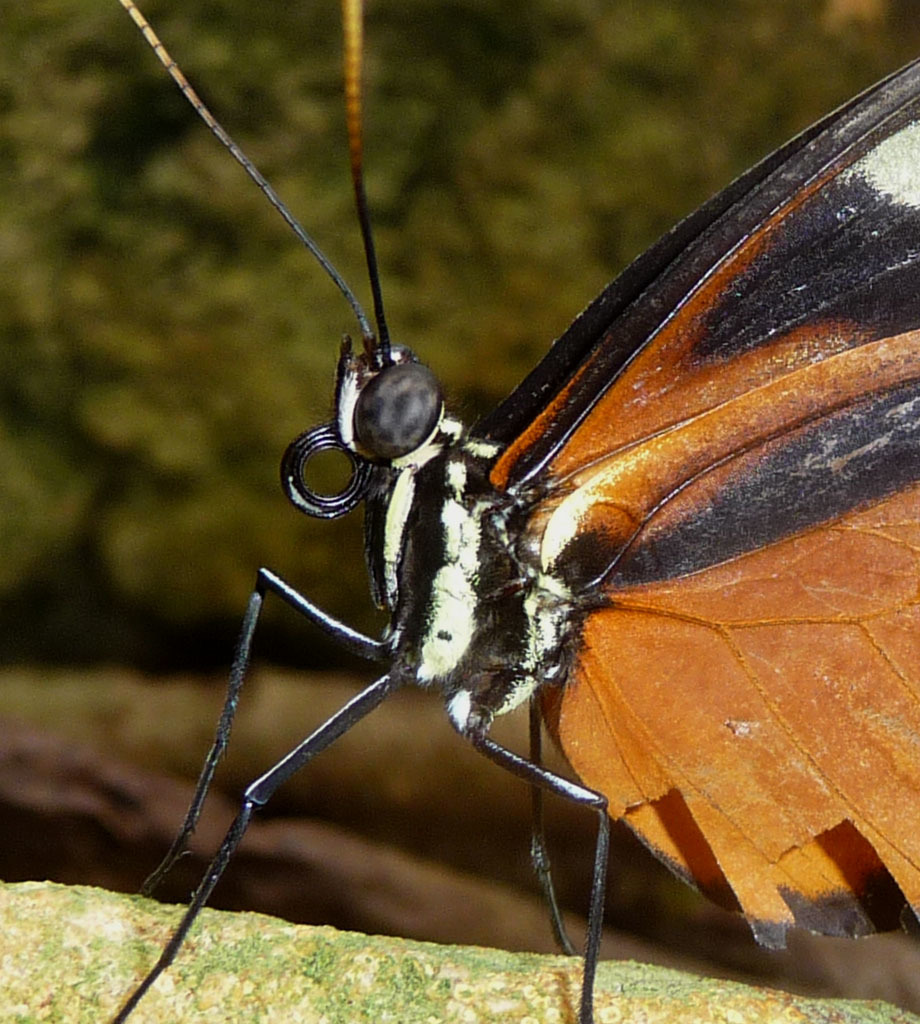Butterfly: (142, 8, 920, 952)
